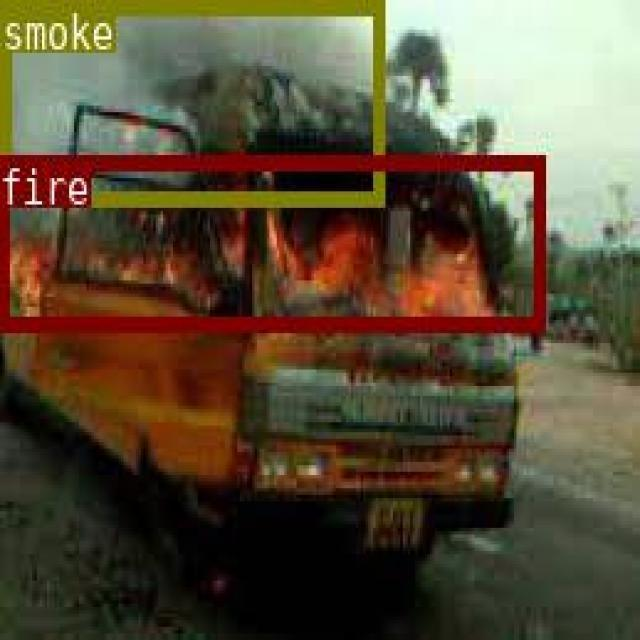fire: (0, 154, 544, 329)
smoke: (0, 0, 381, 201)
